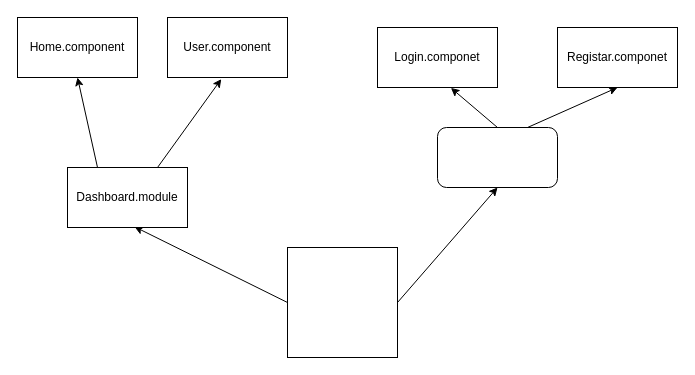
This 695x375 diagram has some shape labels left out. Here are the shapes that lost their labels. From the top down, the centre of each, then its label:
At (497,157): "Authresgistro".
At (342,302): "App.Module".
